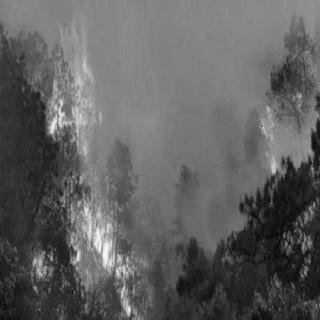Fire: (29, 21, 137, 315), (258, 57, 306, 187)
